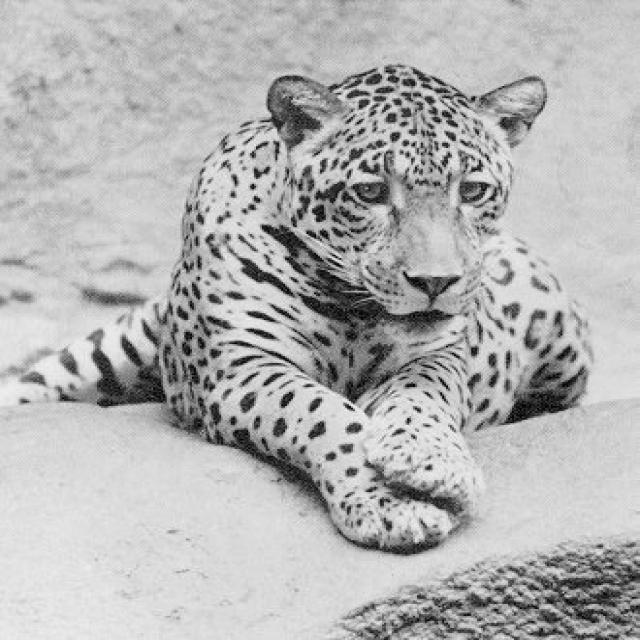Leopard: (8, 62, 592, 556)
